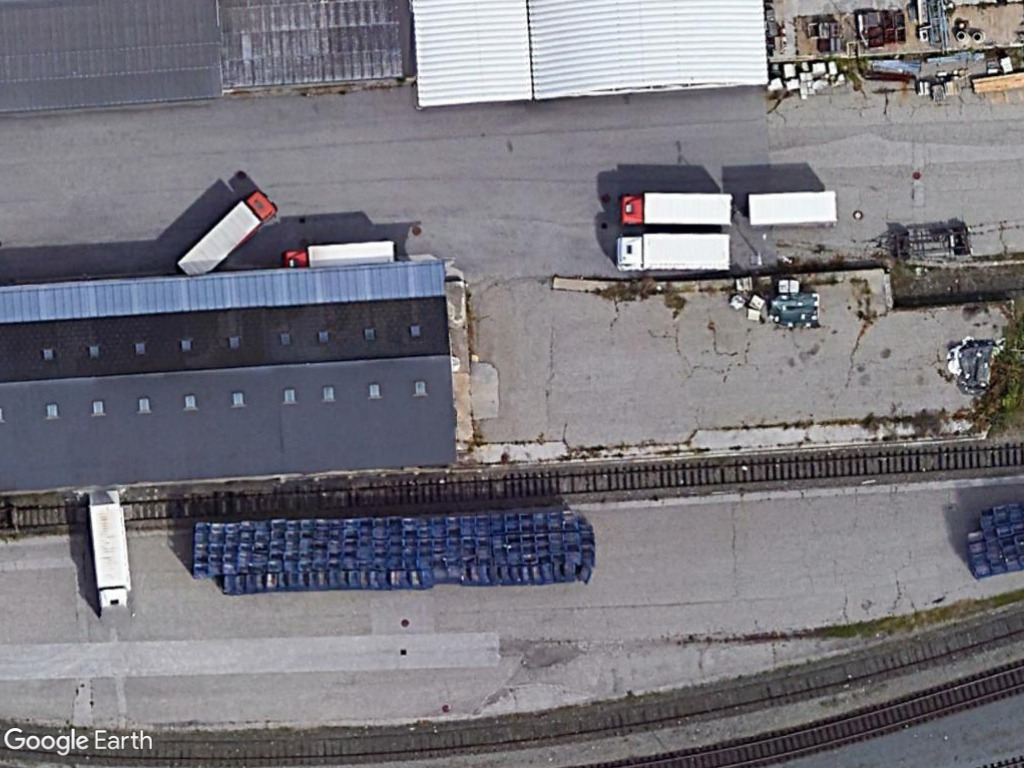truck: (172, 185, 281, 283), (83, 500, 135, 614), (611, 189, 739, 233), (612, 228, 735, 273)
